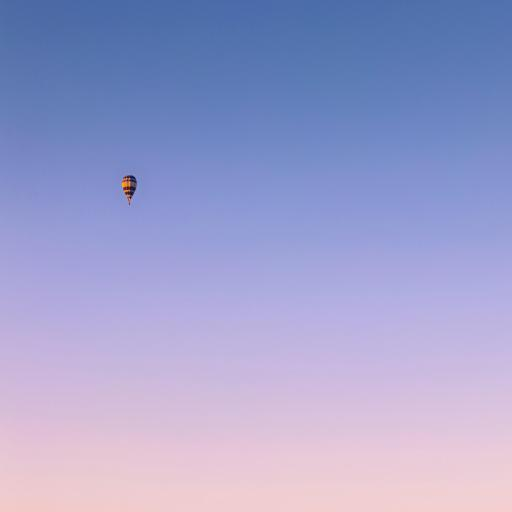hot air ballon: (122, 175, 137, 205)
